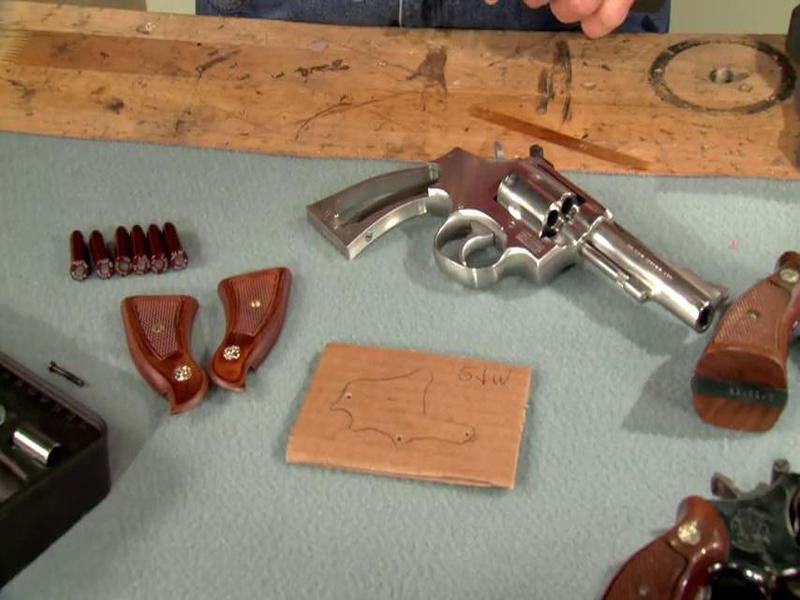Revolver: (272, 101, 712, 366)
